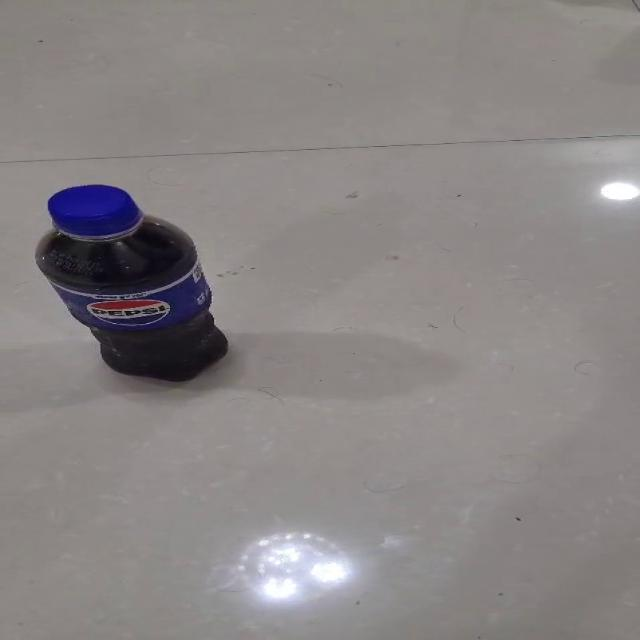plastic: (32, 183, 229, 382)
